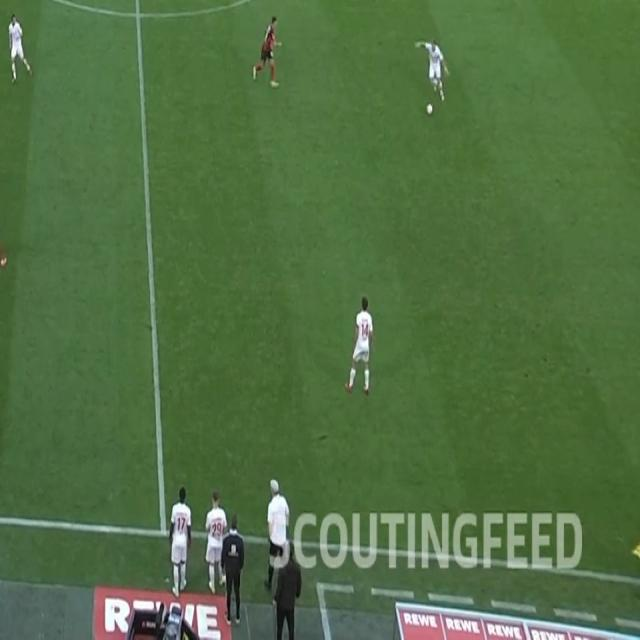ball: (426, 102, 433, 114)
